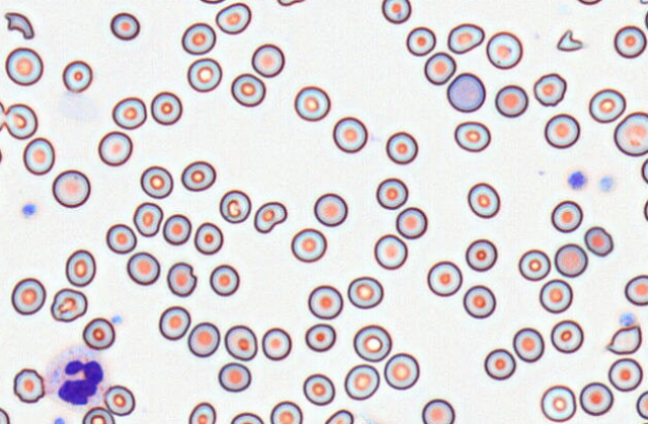GRAN: (40, 342, 109, 408)
PLT: (567, 168, 588, 191), (619, 310, 637, 328), (600, 175, 617, 194), (21, 203, 37, 219), (53, 416, 66, 424)
RBC: (613, 111, 648, 156), (446, 72, 485, 112), (51, 169, 90, 208), (4, 46, 43, 85), (353, 324, 391, 362), (383, 352, 419, 390), (540, 384, 576, 422), (486, 31, 522, 69), (293, 85, 330, 121), (11, 277, 46, 315), (588, 88, 626, 123), (426, 260, 462, 296), (50, 287, 87, 322), (344, 363, 379, 400), (332, 116, 367, 153), (22, 136, 55, 175), (97, 130, 132, 166), (290, 227, 326, 262), (307, 284, 343, 319), (544, 113, 580, 148), (187, 57, 222, 92), (230, 72, 265, 107), (373, 233, 407, 269), (4, 102, 37, 139), (539, 278, 573, 313), (608, 357, 643, 391), (579, 381, 613, 416), (187, 321, 220, 357), (224, 324, 257, 360), (467, 182, 500, 218), (453, 120, 490, 152), (126, 251, 160, 285), (462, 284, 496, 318), (313, 192, 347, 226), (158, 305, 191, 340), (111, 96, 146, 129), (181, 22, 216, 55), (13, 367, 45, 403), (347, 276, 383, 308), (215, 2, 251, 34), (65, 249, 96, 286), (447, 23, 484, 54), (423, 51, 456, 85), (550, 319, 583, 353), (554, 243, 587, 277), (494, 84, 528, 117), (533, 72, 566, 106), (251, 43, 284, 77), (512, 327, 544, 362), (132, 201, 163, 237), (180, 160, 216, 191), (82, 317, 115, 350), (613, 25, 646, 58), (140, 165, 173, 198), (385, 131, 418, 164), (219, 189, 251, 223), (150, 91, 182, 125), (166, 261, 197, 296), (518, 248, 550, 281), (302, 373, 335, 405), (395, 206, 427, 239), (375, 177, 408, 209), (465, 238, 497, 271), (103, 384, 135, 416), (550, 200, 582, 232), (217, 362, 251, 392), (62, 59, 92, 93), (484, 348, 515, 380), (193, 221, 223, 254), (209, 263, 239, 296), (261, 327, 291, 360), (105, 223, 136, 254), (405, 26, 436, 56), (304, 323, 336, 352), (162, 213, 191, 245), (584, 225, 613, 256), (109, 12, 140, 40), (421, 398, 454, 423), (269, 400, 302, 423), (624, 274, 648, 305), (381, 0, 411, 23), (188, 401, 216, 423), (81, 406, 115, 423), (229, 411, 264, 423), (324, 409, 353, 423), (635, 390, 648, 420), (641, 156, 648, 184), (276, 0, 306, 6), (0, 407, 10, 424), (0, 100, 5, 132), (575, 0, 603, 5), (643, 195, 648, 222), (198, 0, 226, 4), (644, 9, 648, 31), (0, 177, 2, 210), (0, 142, 2, 168), (638, 0, 648, 4)
Schistocyte: (607, 325, 644, 355), (254, 202, 288, 233), (5, 12, 36, 40), (558, 28, 584, 52)
